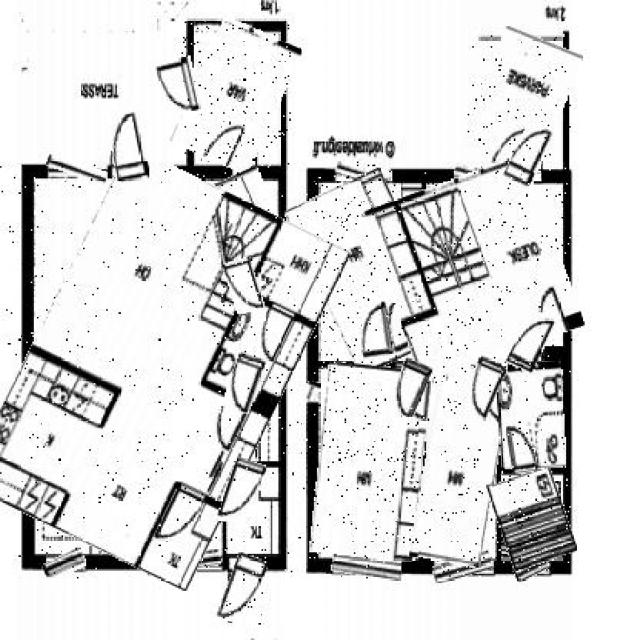door: (108, 106, 146, 183), (223, 554, 263, 624), (511, 117, 551, 186), (223, 459, 263, 526), (463, 357, 503, 421), (511, 311, 551, 372), (157, 57, 198, 114), (389, 358, 428, 416), (226, 354, 262, 412), (226, 258, 262, 314), (356, 303, 392, 359), (509, 421, 537, 474)
window: (332, 554, 402, 578), (148, 552, 222, 574), (434, 555, 492, 580), (46, 158, 108, 180), (454, 165, 511, 188), (336, 162, 392, 184), (304, 249, 322, 317), (42, 552, 86, 578), (514, 557, 549, 578), (21, 375, 34, 397), (305, 382, 320, 400)
zone: (0, 161, 314, 574), (376, 166, 572, 372), (302, 176, 440, 370), (314, 363, 426, 560), (418, 366, 504, 566), (182, 20, 290, 169), (468, 32, 572, 174), (197, 172, 283, 265), (202, 265, 282, 360), (492, 471, 571, 566), (497, 362, 565, 469), (225, 465, 280, 557)
